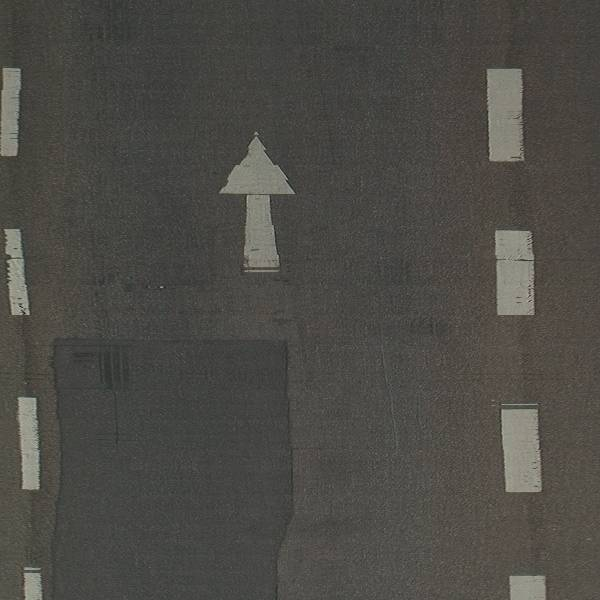road_damage: (42, 329, 309, 600), (262, 335, 299, 600)
